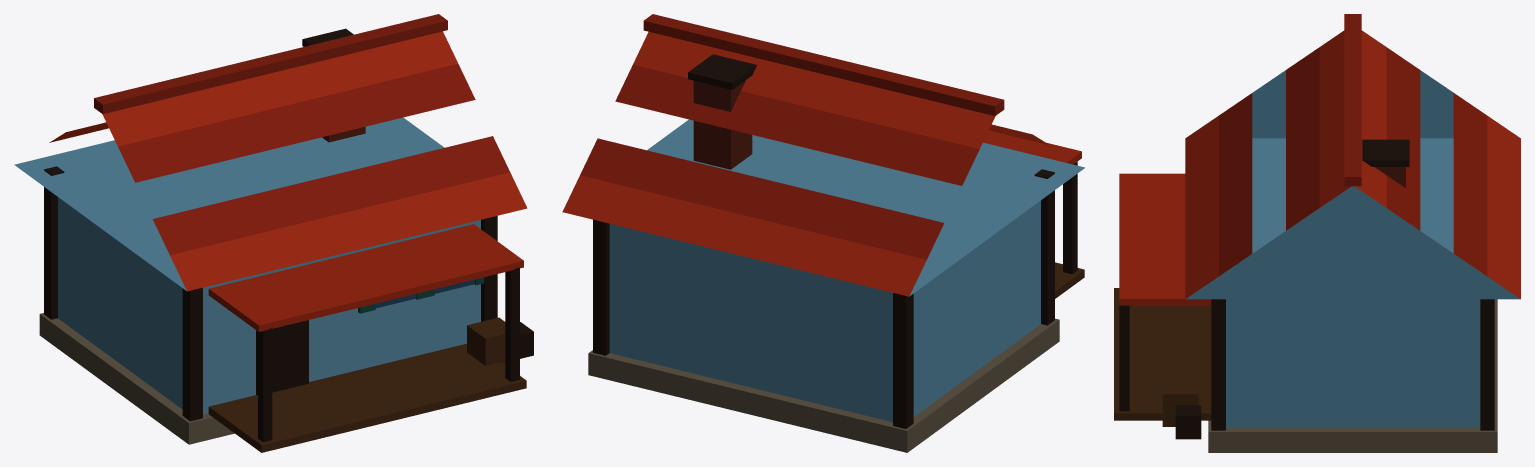
Rendered from coast-house-a.glb.
3 renders of one model, left to right at view 1: azimuth 30°, elevation 25°; view 2: azimuth 150°, elevation 25°; view 3: azimuth 270°, elevation 25°, orthographic. The views are drawn at different scales.
Visible parts, largest first — view 1: house-a; view 2: house-a; view 3: house-a.
Boxes of the visible parts, <box> form: house-a: <box>14,14,533,452</box>; house-a: <box>562,14,1084,452</box>; house-a: <box>1114,14,1520,452</box>.
Bounding box in the file's own units: 7.53 × 6.1 × 7.94.
